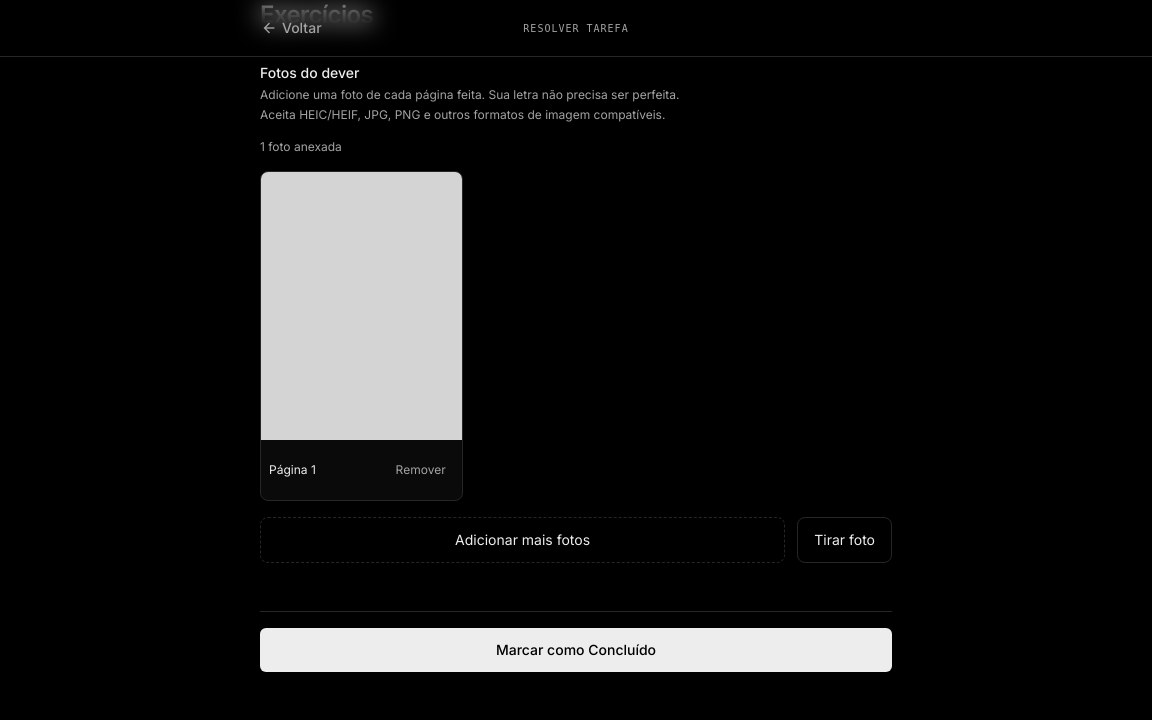
Test: completion with multiple pages › allows retry after a network error without dropping photos
Earlier steps of the test are not shown.
Later steps or results of the test are not shown.
(page scrolled)
Click the button "Marcar como Concluído": (576, 650) x1=260 y1=628 x2=892 y2=672
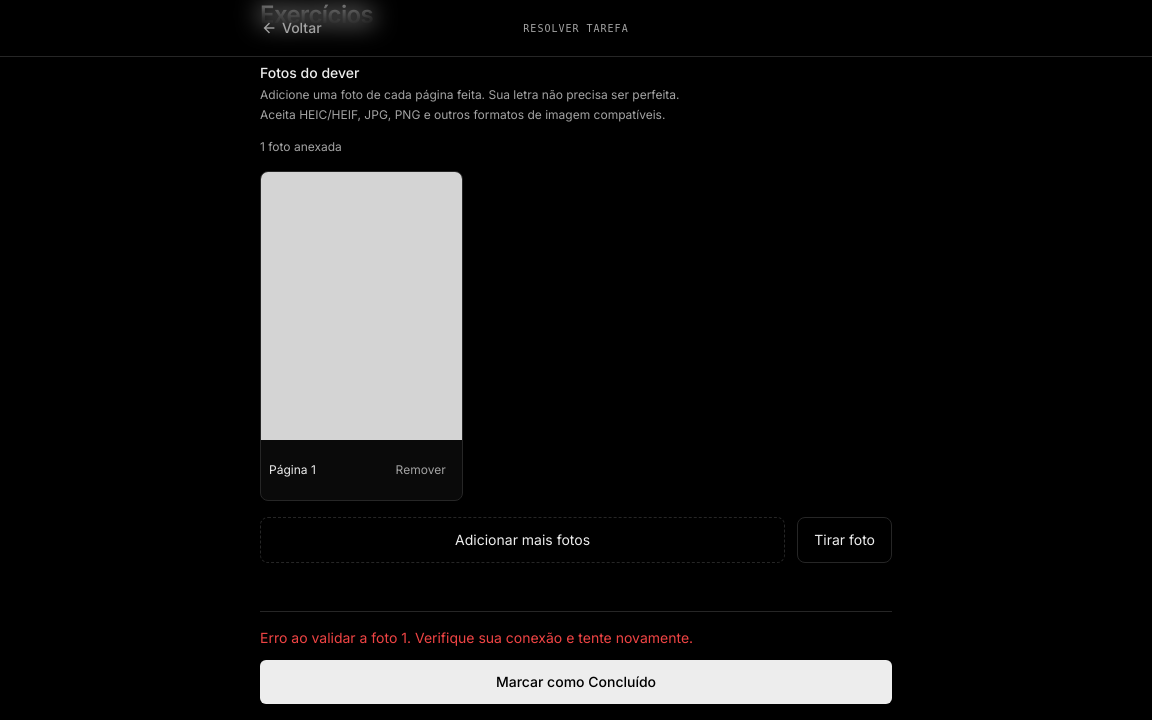
expect the message shows "Erro ao validar a foto 1": met, box x1=260 y1=628 x2=693 y2=646
